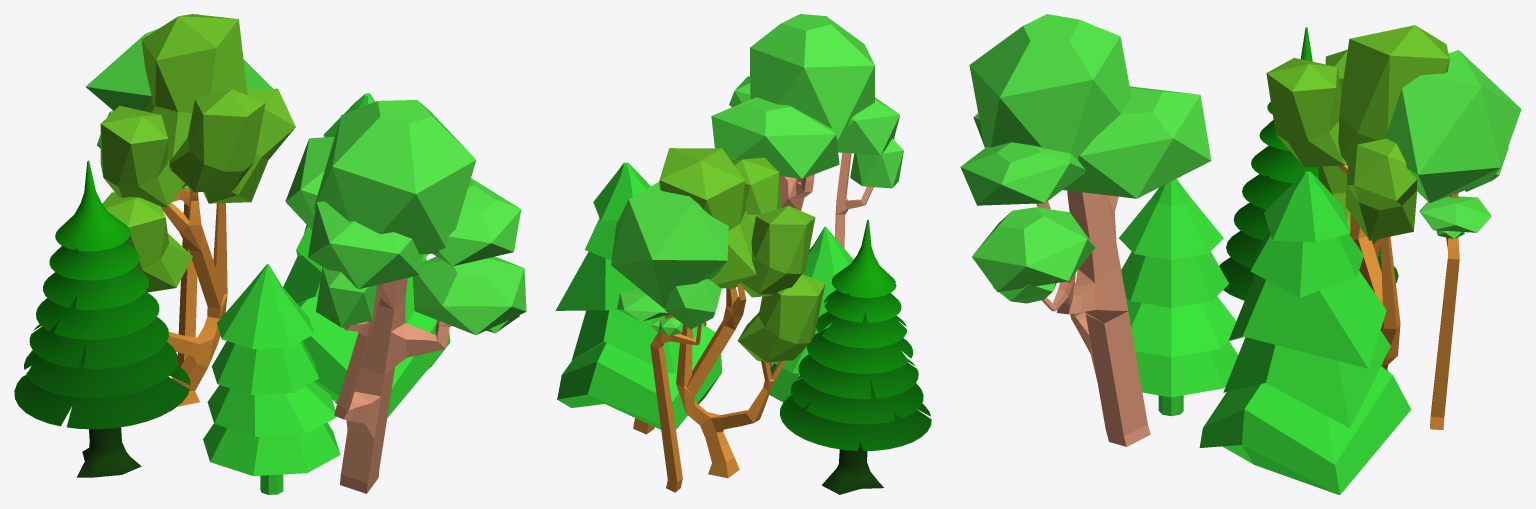
Rendered from forest1-6.fbx.
3 views of the same model, side by side, from view 1: azimuth 30°, elevation 25°; view 2: azimuth 150°, elevation 25°; view 3: azimuth 270°, elevation 25° (orthographic). The views are drawn at different scales.
Parts seen in each view (by area): view 1: Low poly tree.001, Low poly tree, Icosphere.019, Cube.005, Icosphere.027, Icosphere.029, Icosphere.022, Icosphere.030, Icosphere.020, Cube.006, Circle, Icosphere.021 (+7 smaller); view 2: Low poly tree.001, Icosphere.019, Icosphere.007, Icosphere.025, Circle, Icosphere.027, Cube.006, Icosphere.028, Icosphere.030, Circle.001, Circle.002, Low poly tree (+9 smaller); view 3: Low poly tree, Icosphere.019, Circle, Icosphere.007, Cube.005, Icosphere.025, Circle.002, Icosphere.027, Circle.001, Icosphere.022, Icosphere.029, Low poly tree.001 (+9 smaller).
Part boxes in pixels (x1,y1,x2,y2): Low poly tree.001: [14, 160, 190, 477]; Low poly tree: [203, 264, 340, 494]; Icosphere.019: [314, 100, 476, 254]; Cube.005: [334, 278, 451, 493]; Icosphere.027: [141, 14, 247, 187]; Icosphere.029: [169, 89, 265, 192]; Icosphere.022: [413, 256, 526, 334]; Icosphere.030: [100, 106, 184, 206]; Icosphere.020: [308, 201, 423, 289]; Cube.006: [161, 188, 227, 406]; Circle: [297, 296, 450, 417]; Icosphere.021: [432, 178, 521, 266]; Low poly tree.001: [779, 219, 931, 494]; Icosphere.019: [750, 14, 874, 140]; Icosphere.007: [611, 181, 728, 308]; Icosphere.025: [711, 97, 839, 178]; Circle: [557, 324, 722, 429]; Icosphere.027: [659, 148, 756, 288]; Cube.006: [676, 284, 786, 478]; Icosphere.028: [737, 274, 825, 362]; Icosphere.030: [739, 205, 815, 297]; Circle.001: [571, 310, 697, 373]; Circle.002: [555, 251, 638, 310]; Low poly tree: [769, 226, 853, 402]; Low poly tree: [1119, 179, 1237, 416]; Icosphere.019: [969, 14, 1131, 161]; Circle: [1199, 366, 1411, 494]; Icosphere.007: [1383, 50, 1521, 202]; Cube.005: [1036, 190, 1150, 446]; Icosphere.025: [1063, 86, 1211, 198]; Circle.002: [1228, 270, 1386, 368]; Icosphere.027: [1338, 25, 1449, 165]; Circle.001: [1223, 330, 1390, 428]; Icosphere.022: [972, 207, 1095, 291]; Icosphere.029: [1266, 57, 1346, 167]; Low poly tree.001: [1219, 27, 1398, 300].
Size of the model in its own units: 540 by 515 by 619.
